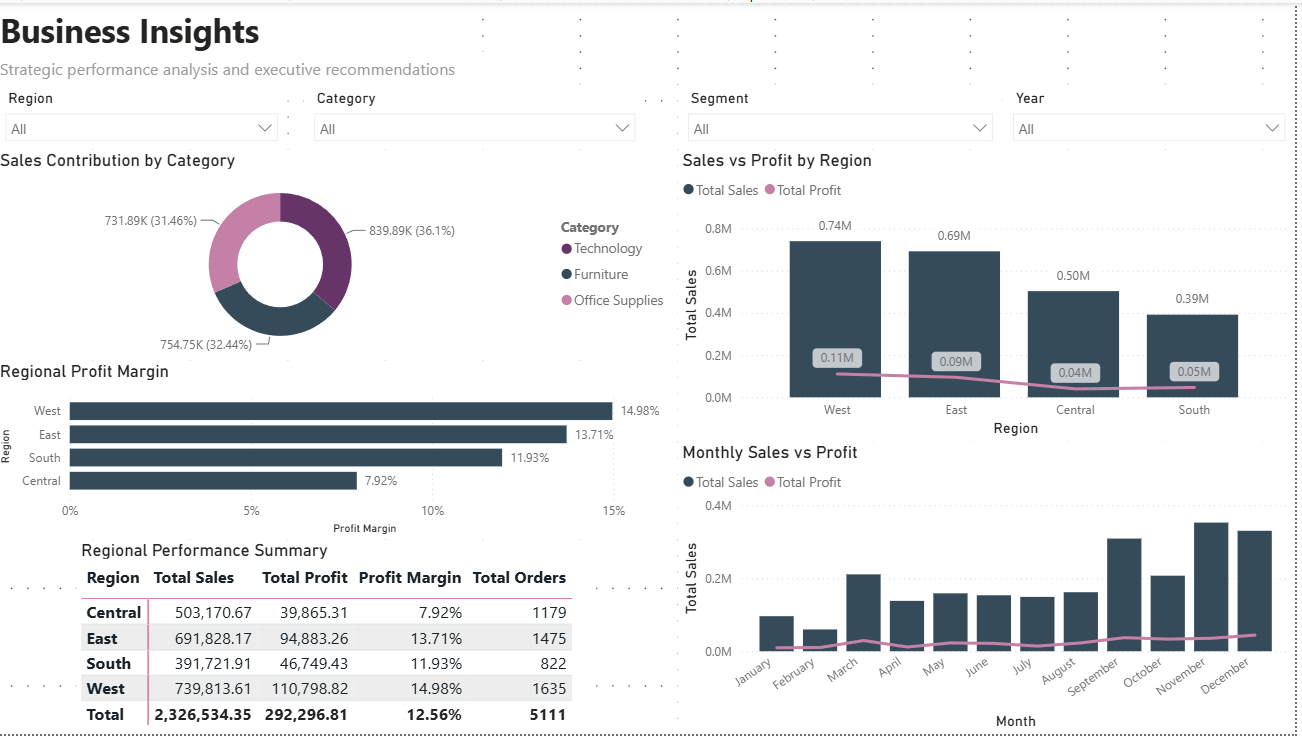

What the dashboard file says about the page in this screenshot:
{"tool":"powerbi","page":{"name":"Business Insights","canvas":[1280,720],"ordinal":3},"visuals":[{"type":"textbox","box":[0,0,456,72],"z":0},{"type":"textbox","box":[0,48,504,48],"z":1000},{"type":"slicer","fields":{"Values":["Orders.Region"]},"box":[0,80,288,64],"z":2000},{"type":"slicer","fields":{"Values":["Orders.Category"]},"box":[304,80,336,64],"z":3000},{"type":"slicer","fields":{"Values":["Orders.Segment"]},"box":[672,80,320,64],"z":4000},{"type":"slicer","fields":{"Values":["Orders.Order Date.Variation.Date Hierarchy.Year"]},"box":[992,80,288,64],"z":5000},{"type":"lineClusteredColumnComboChart","title":"Sales vs Profit by Region","fields":{"Category":["Orders.Region"],"Y":["Orders.Total Sales"],"Y2":["Orders.Total Profit"]},"box":[672,144,608,288],"z":6000},{"type":"donutChart","title":"Sales Contribution by Category","fields":{"Category":["Orders.Category"],"Y":["Orders.Total Sales"]},"box":[0,144,672,208],"z":7000},{"type":"clusteredBarChart","title":"Regional Profit Margin","fields":{"Category":["Orders.Region"],"Y":["Orders.Profit Margin"]},"box":[0,352,672,176],"z":8000},{"type":"lineClusteredColumnComboChart","title":"Monthly Sales vs Profit","fields":{"Category":["Orders.Order Date.Variation.Date Hierarchy.Month"],"Y":["Orders.Total Sales"],"Y2":["Orders.Total Profit"]},"box":[672,432,608,288],"z":9000},{"type":"pivotTable","title":"Regional Performance Summary","fields":{"Rows":["Orders.Region"],"Values":["Orders.Total Sales","Orders.Total Profit","Orders.Profit Margin","Orders.Total Orders"]},"box":[80,528,512,192],"z":10000}]}

Visuals, with their boxes in screenshot pixels (x1, y1, x2, y2), scaled from the page's 1280x720 canvas onto the 1302x737 screenshot:
textbox: 0 0 464 74
textbox: 0 49 513 98
slicer - Orders.Region: 0 82 293 147
slicer - Orders.Category: 309 82 651 147
slicer - Orders.Segment: 684 82 1009 147
slicer - Orders.Order Date.Variation.Date Hierarchy.Year: 1009 82 1301 147
"Sales vs Profit by Region" lineClusteredColumnComboChart: 684 147 1301 442
"Sales Contribution by Category" donutChart: 0 147 684 360
"Regional Profit Margin" clusteredBarChart: 0 360 684 540
"Monthly Sales vs Profit" lineClusteredColumnComboChart: 684 442 1301 736
"Regional Performance Summary" pivotTable: 81 540 602 736
